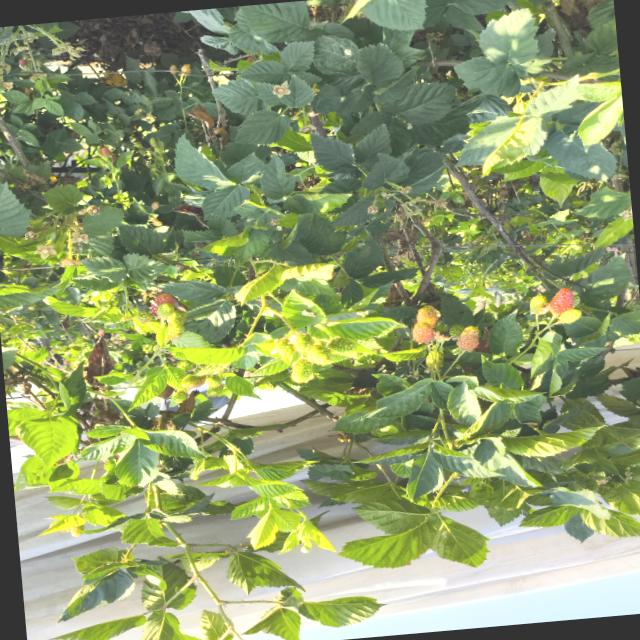naranja: (550, 288, 574, 315), (457, 326, 479, 350), (412, 322, 434, 343), (416, 305, 437, 326), (154, 293, 175, 305)
verde: (290, 358, 314, 383), (305, 343, 332, 365), (272, 339, 296, 361), (328, 337, 355, 354), (291, 333, 314, 352), (180, 374, 205, 389), (530, 294, 548, 314), (559, 308, 581, 323), (167, 309, 186, 324), (166, 324, 184, 339), (449, 323, 465, 339), (156, 303, 174, 317), (205, 374, 222, 387), (136, 310, 152, 323), (171, 391, 187, 403), (178, 360, 196, 370), (206, 387, 223, 396)
